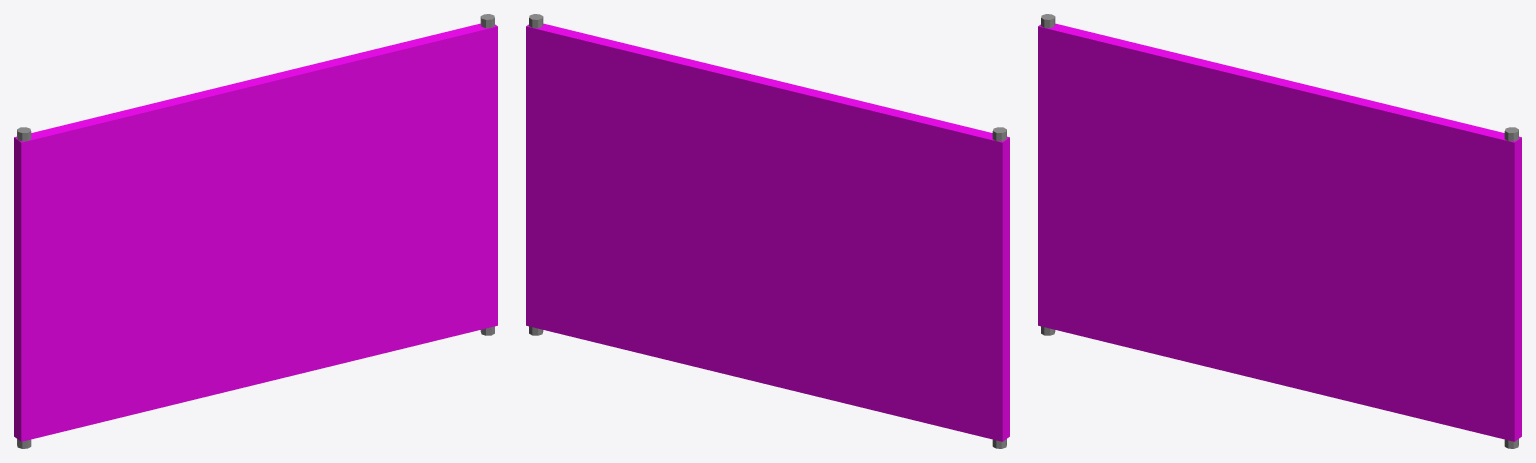
File: chainlink_dark_3m.dae
3 renders of one model, left to right at view 1: azimuth 30°, elevation 25°; view 2: azimuth 150°, elevation 25°; view 3: azimuth 330°, elevation 25°, orthographic.
Parts seen in each view (by area): view 1: Colmesh_panel-1; view 2: Colmesh_panel-1; view 3: Colmesh_panel-1.
Part boxes in pixels (box(x1,y1,x2,y2)): Colmesh_panel-1: box(14, 23, 497, 441); Colmesh_panel-1: box(526, 23, 1009, 441); Colmesh_panel-1: box(1038, 23, 1521, 441).
Bounding box in the file's own units: 3 × 0.08 × 1.9.
